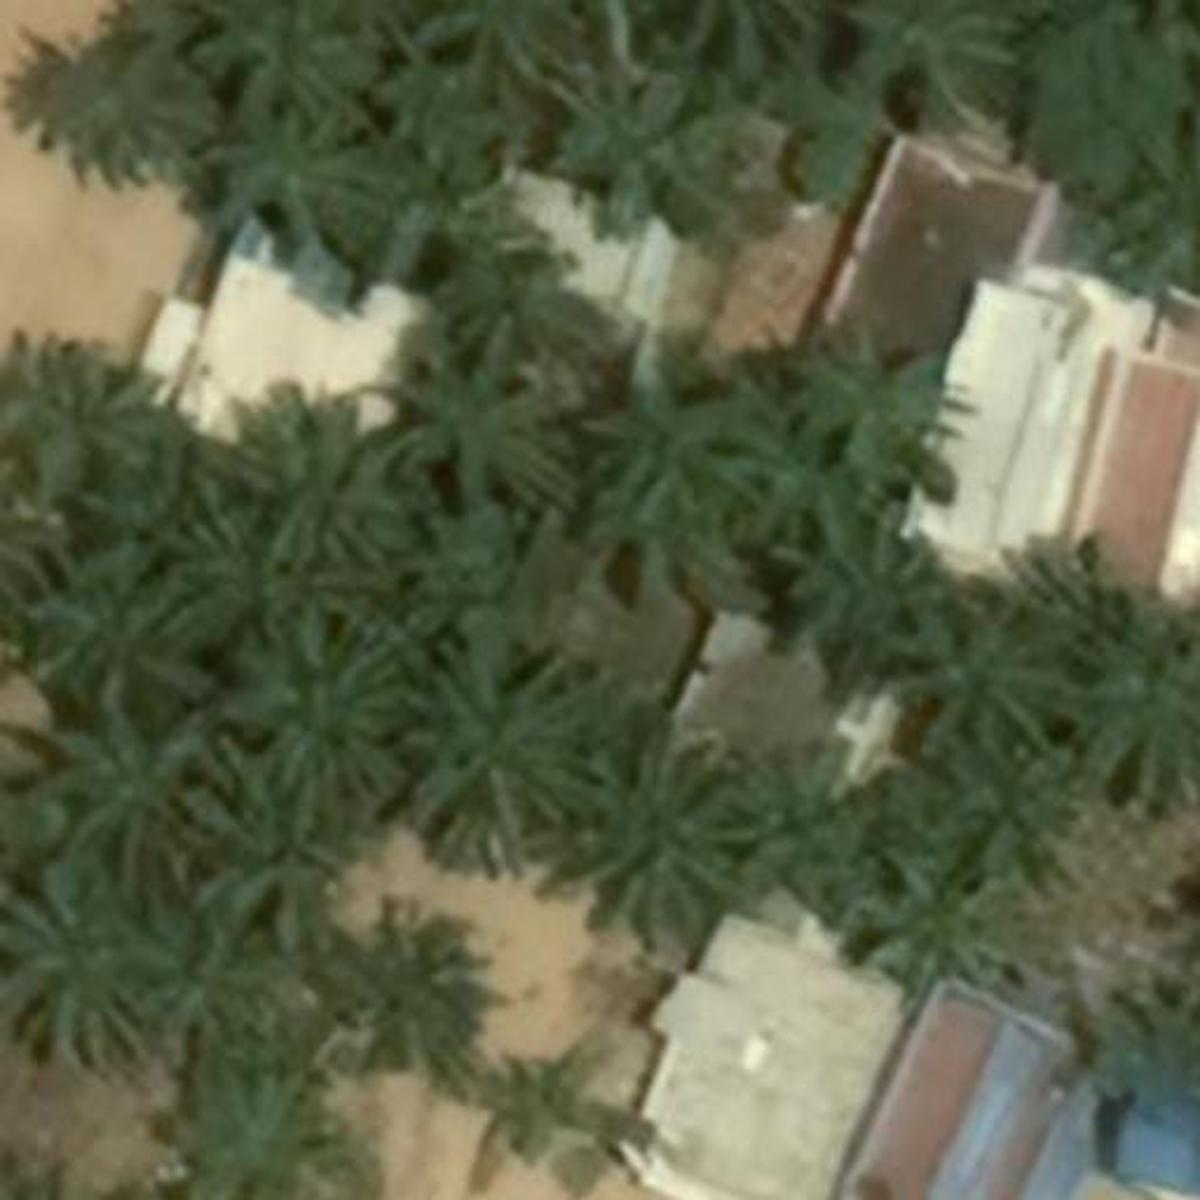coconut: (379, 607, 635, 878), (581, 724, 768, 953), (234, 597, 433, 810), (9, 546, 232, 726), (195, 121, 412, 304), (201, 386, 416, 569), (775, 314, 975, 510), (724, 733, 925, 927), (314, 895, 515, 1087), (548, 63, 759, 243), (4, 874, 187, 1080), (771, 503, 967, 696), (27, 700, 234, 881), (431, 227, 630, 400), (571, 377, 771, 546), (832, 7, 1040, 166), (7, 342, 195, 513), (907, 585, 1078, 771), (21, 21, 213, 185), (152, 1047, 363, 1195), (1073, 569, 1195, 816), (921, 745, 1095, 916), (382, 379, 585, 522), (201, 0, 379, 159), (142, 911, 321, 1062), (855, 848, 1019, 1005), (210, 805, 365, 951), (412, 9, 611, 116), (653, 4, 848, 89)
